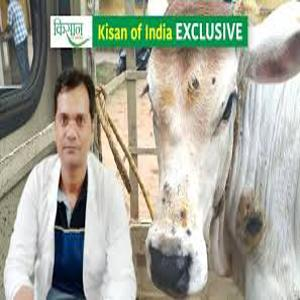lumpy skin diesease: (139, 0, 247, 299), (226, 0, 299, 299)
